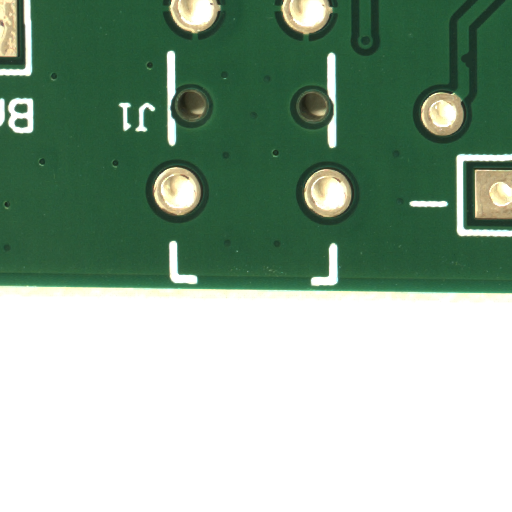Mouse_bite: (465, 60, 474, 75)
